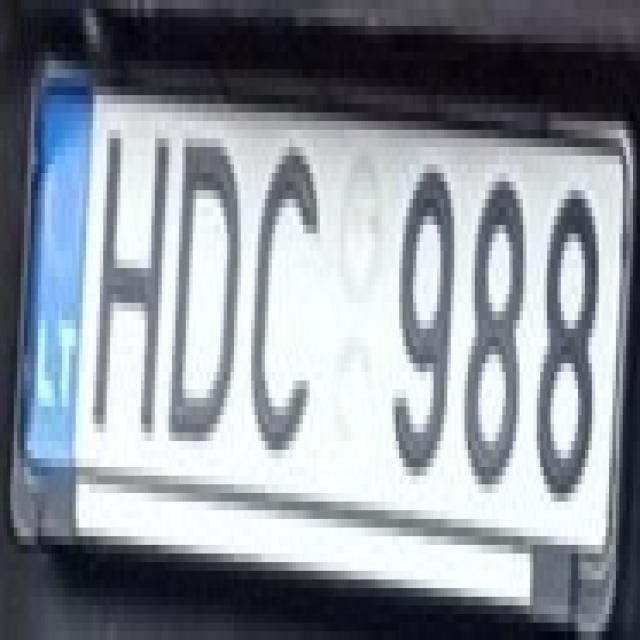8: (458, 156, 550, 484), (520, 164, 602, 493)
9: (375, 138, 461, 476)
C: (238, 130, 324, 450)
D: (155, 112, 244, 442)
H: (79, 104, 176, 432)
